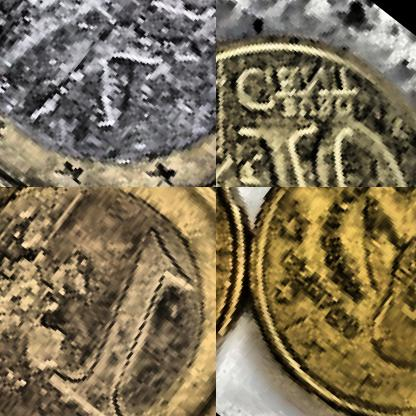coin: (0, 187, 215, 415), (216, 187, 415, 415), (0, 0, 215, 186), (216, 0, 415, 186)
